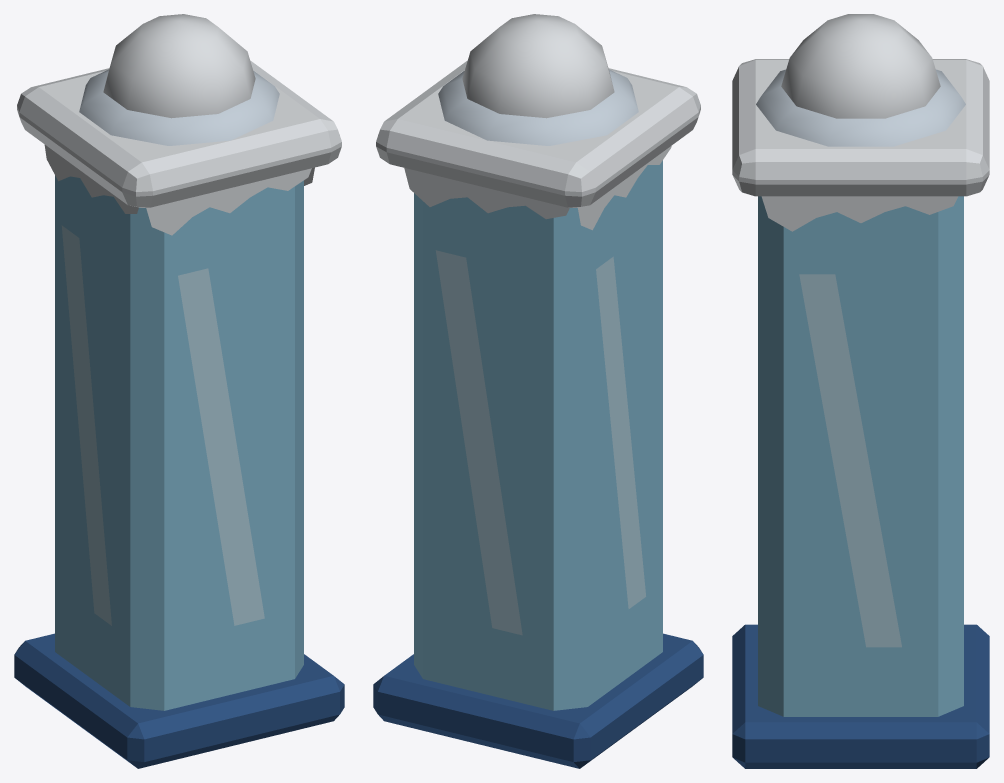
Rendered from ice-post.glb.
The picture shows the model from 3 angles, left to right: view 1: azimuth 30°, elevation 25°; view 2: azimuth 150°, elevation 25°; view 3: azimuth 270°, elevation 25°; orthographic projection. The views are drawn at different scales.
Parts seen in each view (by area): view 1: ice-post; view 2: ice-post; view 3: ice-post.
Part boxes in pixels (x1,y1,x2,y2): ice-post: [14, 14, 344, 768]; ice-post: [373, 14, 703, 768]; ice-post: [732, 14, 989, 768].
Size of the model in its own units: 0.5 by 1.5 by 0.5.
